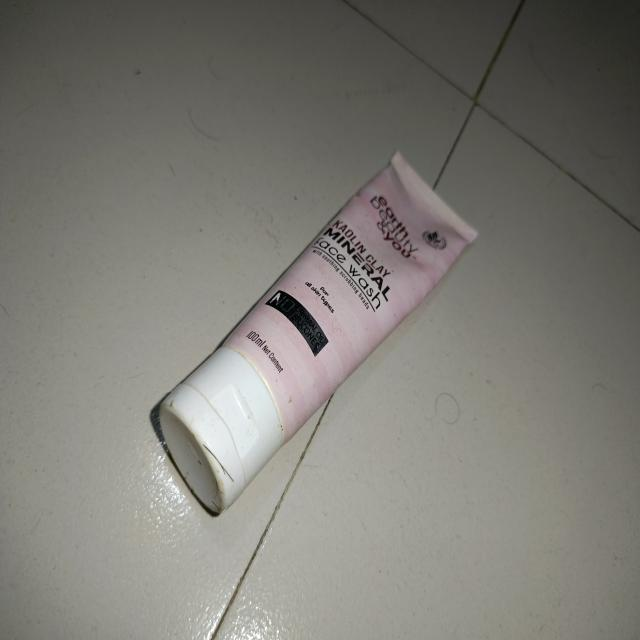Squeeze Tube: (147, 138, 485, 528)
